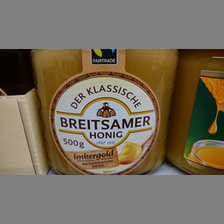honey: (31, 49, 177, 173)
